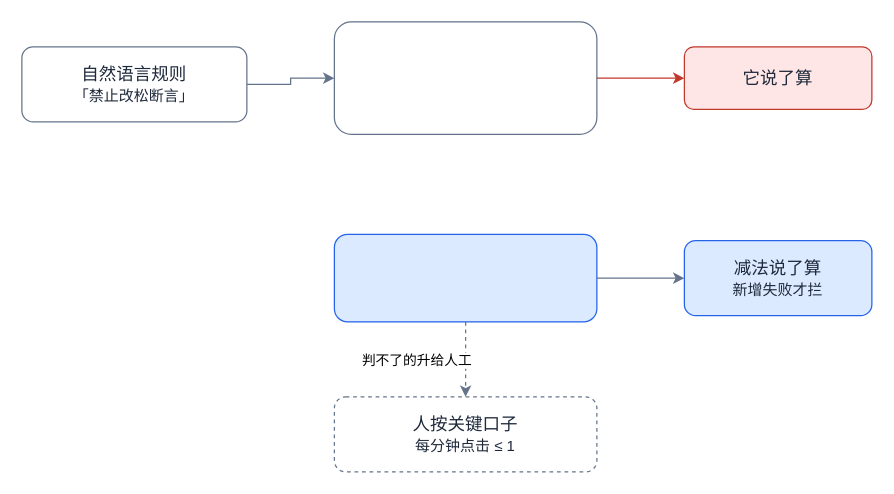
This 894x494 diagram has some shape labels left out. Here are the shapes that lost their labels. From the top down, the centre of each, then its label:
At point 465,77: "AI 解释执行 「这条规则此处不适用」 「我做了等价验证」".
At point 465,277: "脚本判定 基线对比 / 请求熔断 / 留痕".
